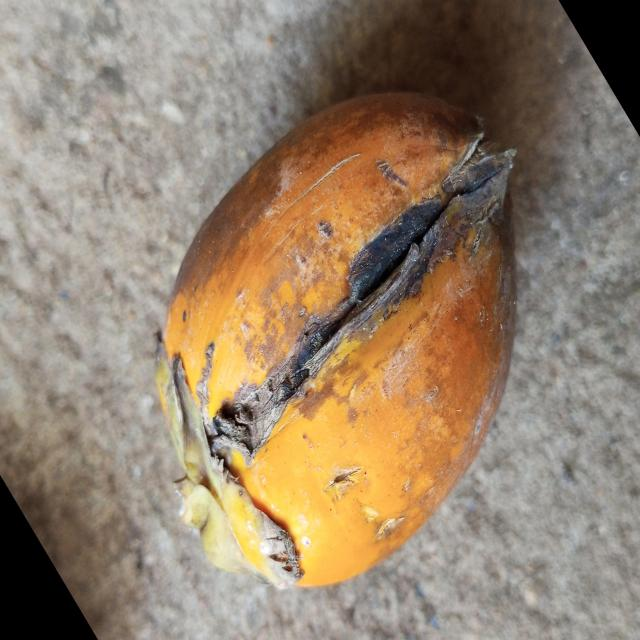damaged: (156, 94, 515, 587)
